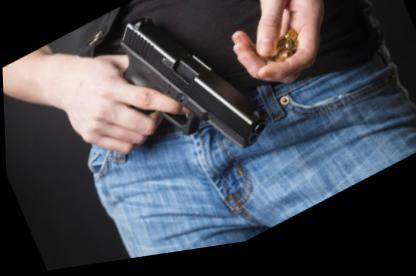pistol: (76, 0, 276, 216)
